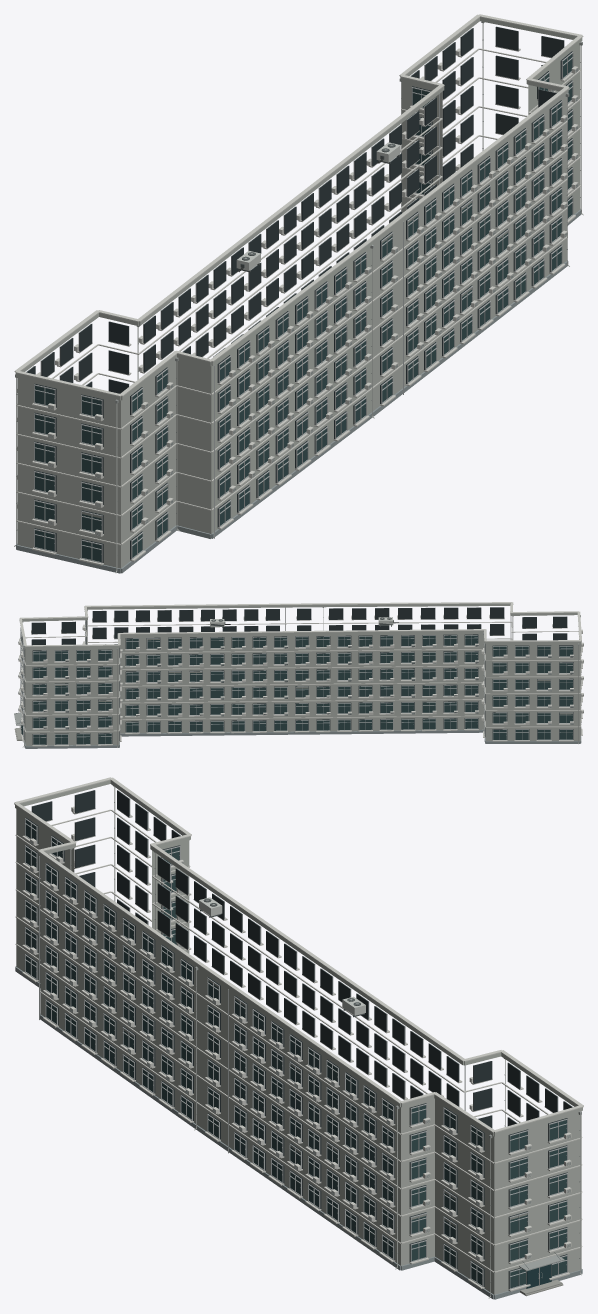
The model's file is osm_way_225250615.glb.
The picture shows the model from 3 angles, top to bottom: view 1: azimuth 30°, elevation 25°; view 2: azimuth 150°, elevation 25°; view 3: azimuth 270°, elevation 25°; orthographic projection. The views are drawn at different scales.
Visible parts, largest first — view 1: Windows and facade details | 34, Architecture | 34, Roof services | 34, EXTERIOR::osm_way_225250615::rainwater and roof service deta; view 2: Windows and facade details | 34, Architecture | 34, Roof services | 34, EXTERIOR::osm_way_225250615::rainwater and roof service deta, EXTERIOR::osm_way_225250615::native pane seals and hardware; view 3: Windows and facade details | 34, Architecture | 34, Roof services | 34, EXTERIOR::osm_way_225250615::rainwater and roof service deta, EXTERIOR::osm_way_225250615::inferred entry doors canopy and.
Part boxes in pixels (bbox=[...]): Windows and facade details | 34: bbox=[17, 26, 578, 565]; Architecture | 34: bbox=[15, 17, 582, 573]; Roof services | 34: bbox=[14, 14, 583, 396]; EXTERIOR::osm_way_225250615::rainwater and roof service deta: bbox=[14, 21, 583, 573]; Windows and facade details | 34: bbox=[18, 607, 583, 746]; Architecture | 34: bbox=[20, 603, 581, 748]; Roof services | 34: bbox=[19, 602, 581, 646]; EXTERIOR::osm_way_225250615::rainwater and roof service deta: bbox=[22, 607, 580, 747]; EXTERIOR::osm_way_225250615::native pane seals and hardware: bbox=[55, 639, 572, 739]; Windows and facade details | 34: bbox=[22, 790, 573, 1291]; Architecture | 34: bbox=[15, 780, 582, 1299]; Roof services | 34: bbox=[14, 777, 583, 1132]; EXTERIOR::osm_way_225250615::rainwater and roof service deta: bbox=[69, 786, 581, 1298]; EXTERIOR::osm_way_225250615::inferred entry doors canopy and: bbox=[519, 1252, 564, 1296].
Bounding box in the file's own units: 89.36 × 20.58 × 60.65.
